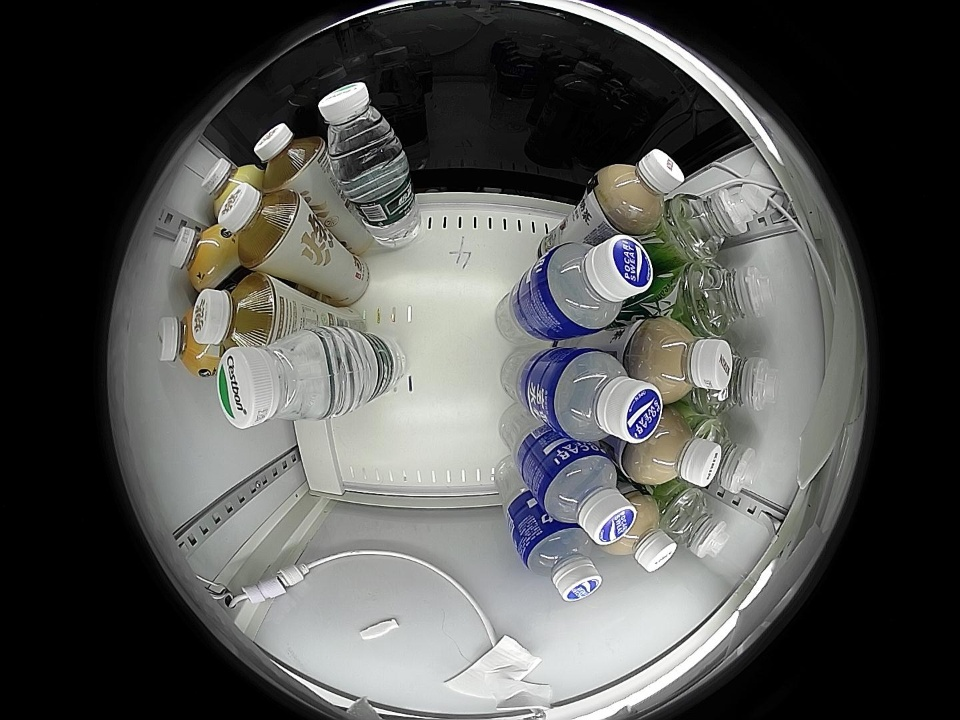asamu: (170, 223, 231, 288), (157, 309, 216, 376), (200, 157, 257, 212)
baokuangli: (532, 234, 654, 338), (547, 348, 662, 444), (536, 444, 638, 545), (519, 521, 602, 602)
jianjiao: (674, 186, 756, 261), (690, 262, 772, 337), (701, 343, 776, 415), (662, 490, 729, 559), (701, 420, 759, 494)
rancha-2: (218, 184, 306, 270), (192, 273, 281, 354), (254, 122, 326, 192)
wuhounaicha: (632, 318, 732, 402), (623, 409, 723, 488), (596, 148, 685, 231), (605, 496, 677, 572)
yibao: (217, 333, 339, 428), (318, 81, 406, 176)
